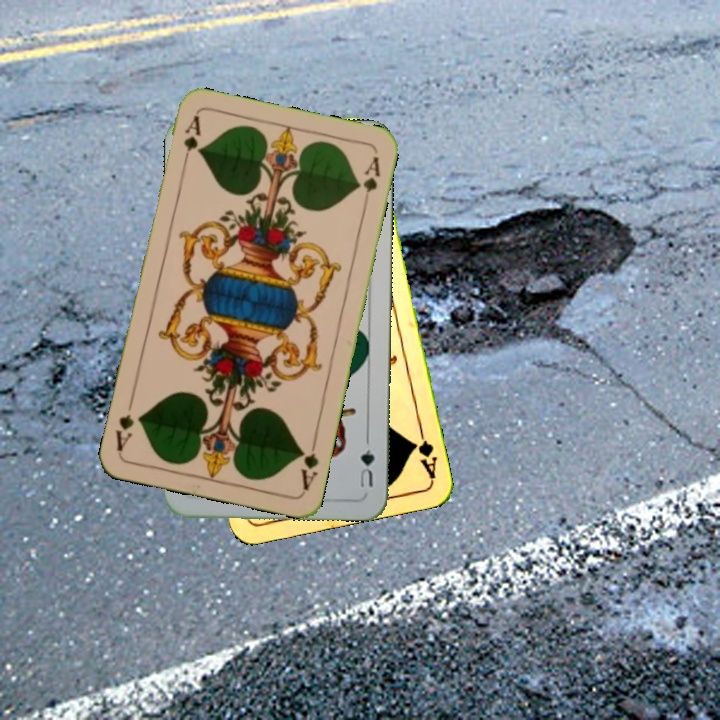GA: (408, 423, 440, 481), (178, 111, 204, 170), (296, 434, 321, 493)
GU: (356, 445, 377, 490)
